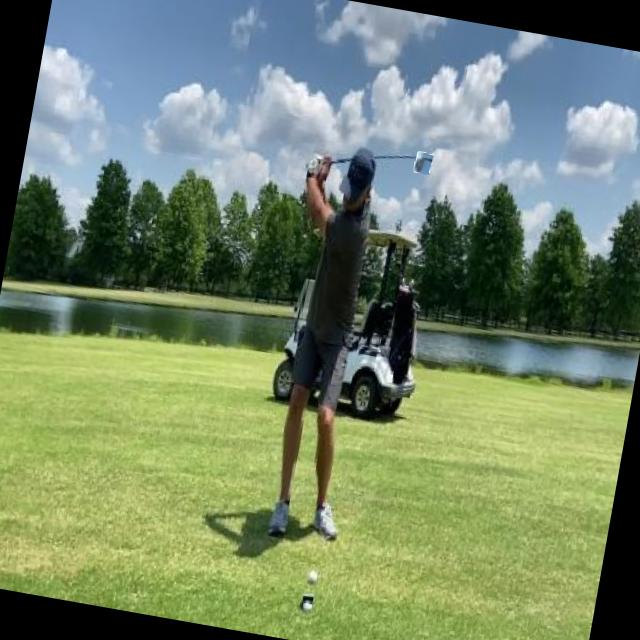club head: (413, 151, 433, 175)
